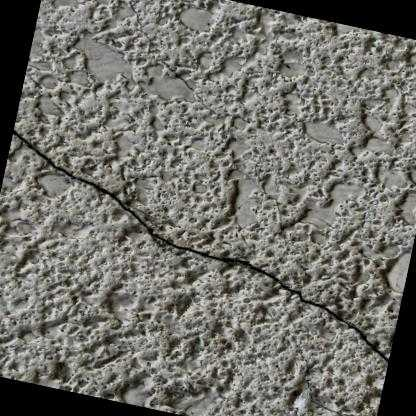crack: (11, 129, 389, 365)
